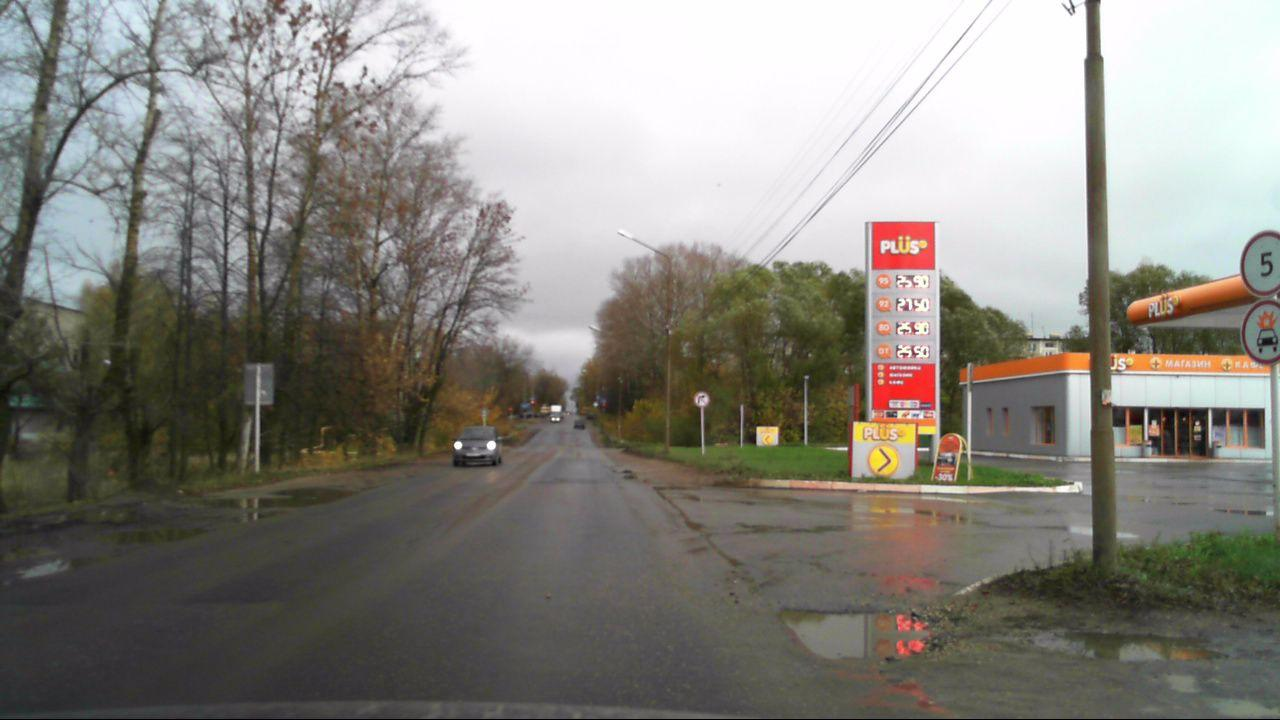3_24: (1240, 231, 1280, 294)
